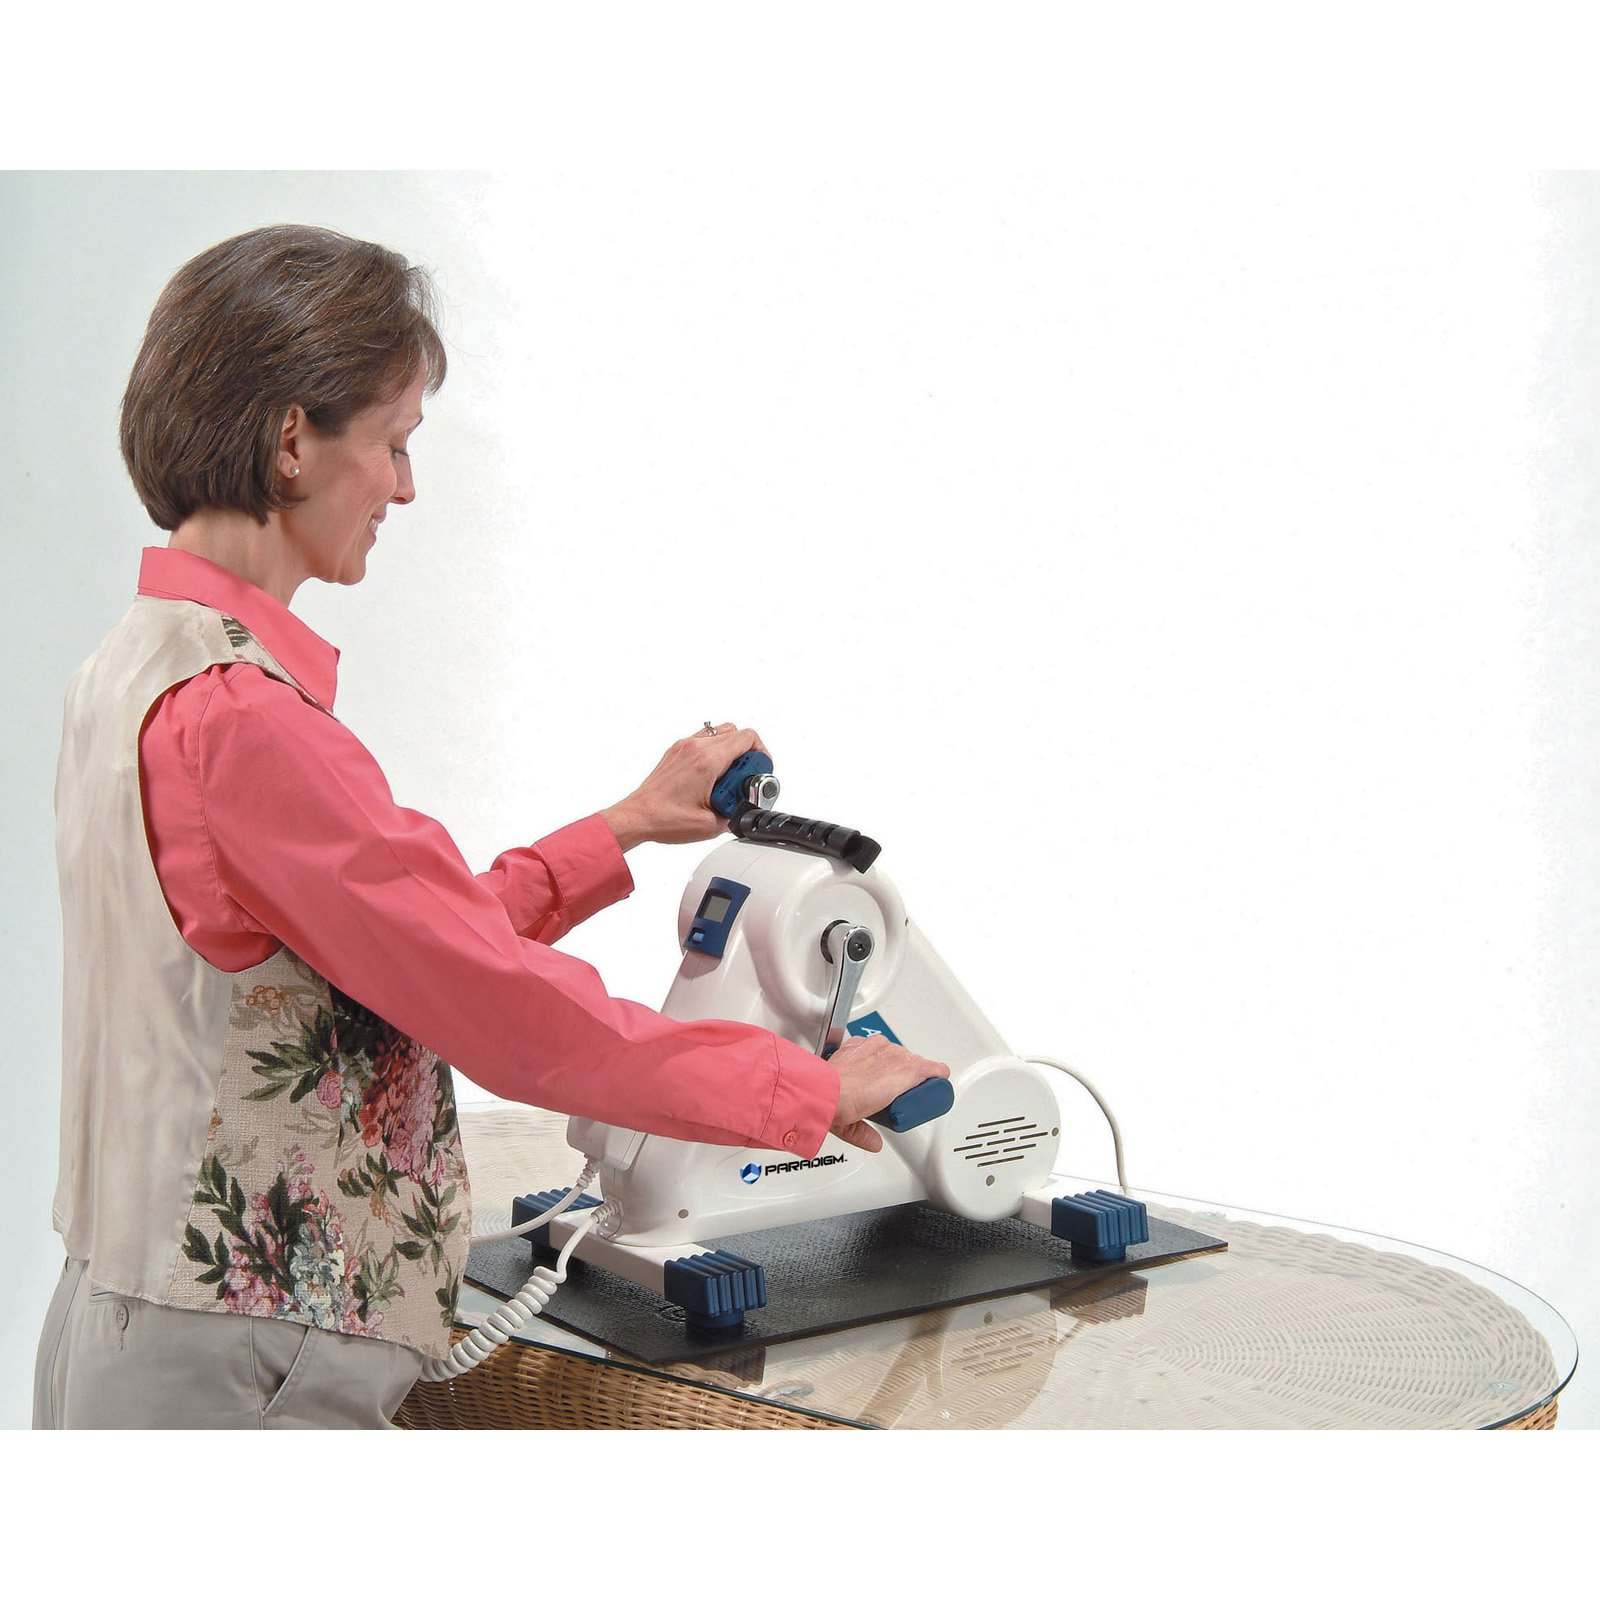gym_bike: (503, 684, 1187, 1379)
